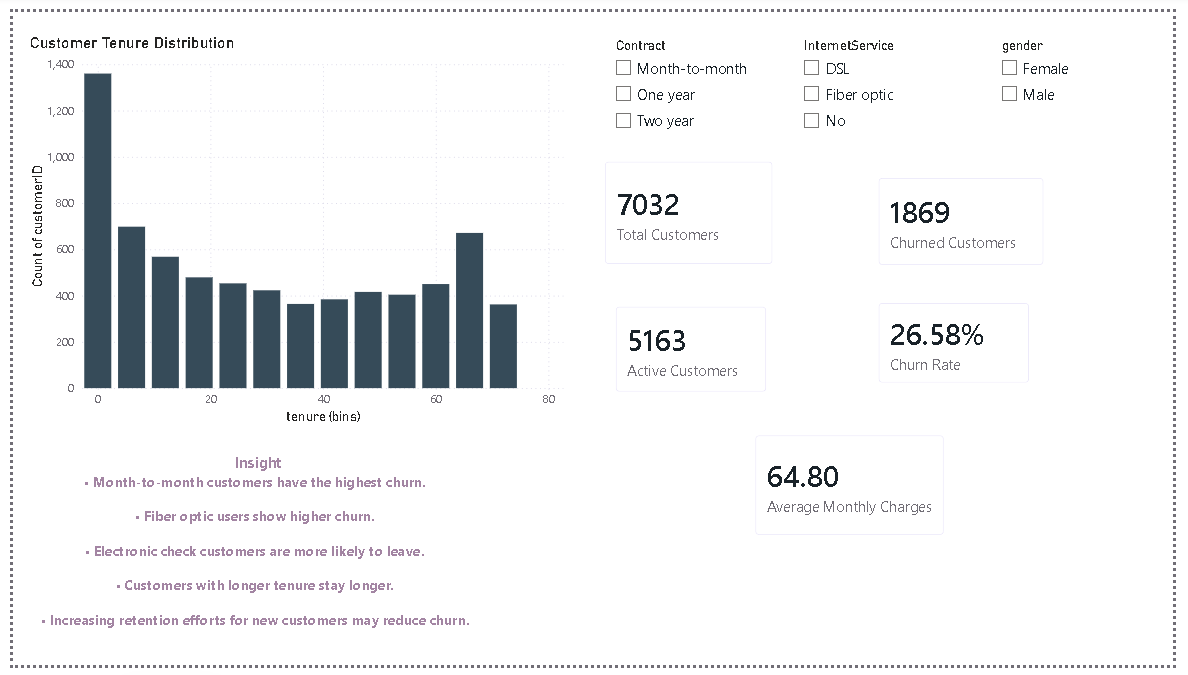

Layout of this report page (visuals, bound fields, positions):
{"tool":"powerbi","page":{"name":"Page 2","canvas":[1280,720],"ordinal":1},"visuals":[{"type":"clusteredColumnChart","title":"Customer Tenure Distribution","fields":{"Category":["Cleaned_Telco_Customer_Churn.tenure (bins)"],"Y":["CountNonNull(Cleaned_Telco_Customer_Churn.customerID)"]},"box":[13.8,24.1,598.4,435.1],"z":0},{"type":"slicer","fields":{"Values":["Cleaned_Telco_Customer_Churn.gender"]},"box":[1078.4,23.3,97.2,103],"z":1000},{"type":"slicer","fields":{"Values":["Cleaned_Telco_Customer_Churn.Contract"]},"box":[652.9,23.3,207.9,132.1],"z":2000},{"type":"slicer","fields":{"Values":["Cleaned_Telco_Customer_Churn.InternetService"]},"box":[860.8,23.3,178.8,141.8],"z":3000},{"type":"cardVisual","fields":{"Data":["Cleaned_Telco_Customer_Churn.Total Customers"]},"box":[635.4,147.7,219.6,147.7],"z":4000},{"type":"cardVisual","fields":{"Data":["Cleaned_Telco_Customer_Churn.Churned Customers"]},"box":[937.4,166,216.8,130.8],"z":5000},{"type":"cardVisual","fields":{"Data":["Cleaned_Telco_Customer_Churn.Active Customers"]},"box":[649,307,200.1,128.2],"z":6000},{"type":"cardVisual","fields":{"Data":["Cleaned_Telco_Customer_Churn.Churn Rate"]},"box":[938,304,200,122],"z":7000},{"type":"cardVisual","fields":{"Data":["Cleaned_Telco_Customer_Churn.Average Monthly Charges"]},"box":[802.6,449.2,242.2,144.5],"z":8000},{"type":"textbox","box":[13.7,480.4,505.8,228.5],"z":9000}]}

Visuals, with their boxes in screenshot pixels (x1, y1, x2, y2), scaled from the page's 1280x720 canvas onto the 1188x675 screenshot:
"Customer Tenure Distribution" clusteredColumnChart: [left=13, top=23, right=568, bottom=431]
slicer - Cleaned_Telco_Customer_Churn.gender: [left=1001, top=22, right=1091, bottom=118]
slicer - Cleaned_Telco_Customer_Churn.Contract: [left=606, top=22, right=799, bottom=146]
slicer - Cleaned_Telco_Customer_Churn.InternetService: [left=799, top=22, right=965, bottom=155]
cardVisual - Cleaned_Telco_Customer_Churn.Total Customers: [left=590, top=138, right=794, bottom=277]
cardVisual - Cleaned_Telco_Customer_Churn.Churned Customers: [left=870, top=156, right=1071, bottom=278]
cardVisual - Cleaned_Telco_Customer_Churn.Active Customers: [left=602, top=288, right=788, bottom=408]
cardVisual - Cleaned_Telco_Customer_Churn.Churn Rate: [left=871, top=285, right=1056, bottom=399]
cardVisual - Cleaned_Telco_Customer_Churn.Average Monthly Charges: [left=745, top=421, right=970, bottom=557]
textbox: [left=13, top=450, right=482, bottom=665]
